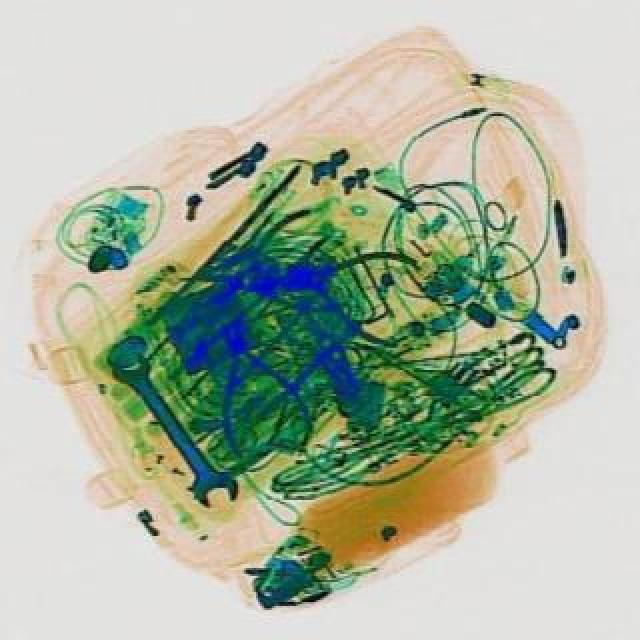scissors: (100, 338, 242, 514)
wrench: (186, 306, 316, 460), (282, 230, 422, 346), (202, 200, 336, 316)
